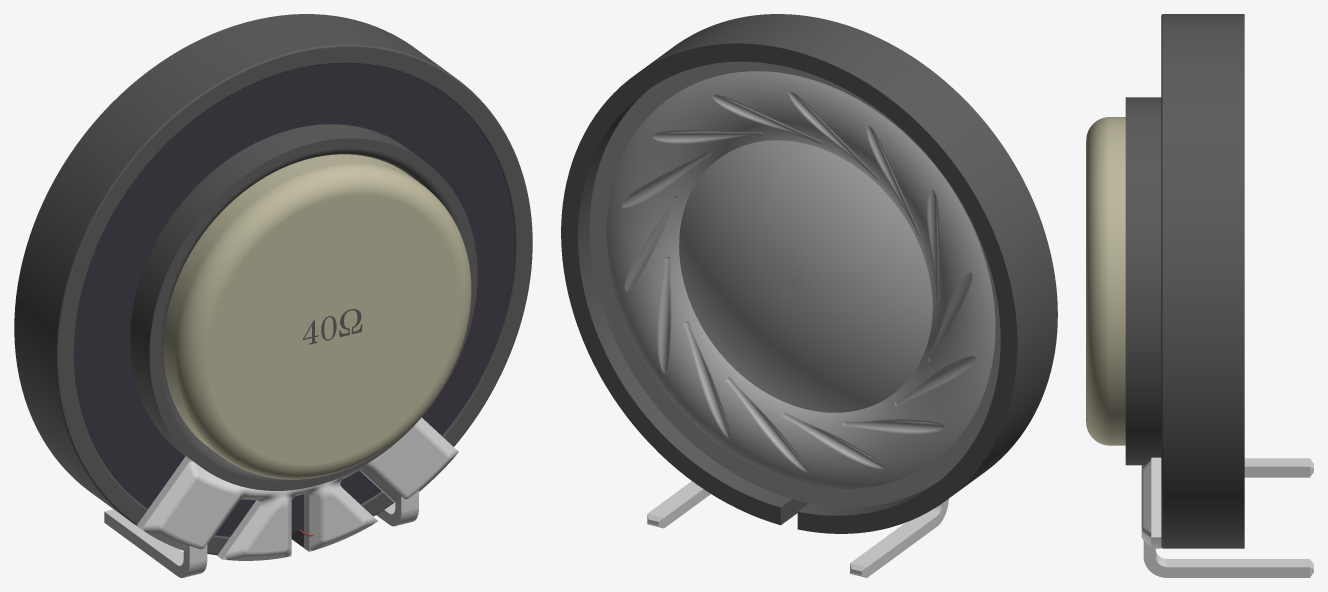
File: ZX Spectrum Speaker 40ohm.obj
3 views of the same model, side by side, from view 1: azimuth 30°, elevation 25°; view 2: azimuth 150°, elevation 25°; view 3: azimuth 270°, elevation 25° (orthographic). The views are drawn at different scales.
Parts seen in each view (by area): view 1: Body2, Body1, Foam, Body2:1, Body2:2, Body1:1, Body1:2; view 2: Body1:3, Body1, Body2:3, Body2:2, Body1:2; view 3: Body1, Body2, Body1:2, Body2:2, Body1:1, Body2:1.
Boxes of the visible parts, x1,y1,x2,y2 form: Body2: (163, 154, 471, 479); Body1: (14, 14, 532, 555); Foam: (74, 63, 514, 536); Body2:1: (143, 417, 457, 560); Body2:2: (104, 509, 207, 577); Body1:1: (136, 450, 458, 559); Body1:2: (376, 490, 418, 526); Body1:3: (606, 71, 995, 488); Body1: (561, 14, 1057, 533); Body2:3: (589, 61, 1000, 507); Body2:2: (850, 499, 948, 577); Body1:2: (647, 481, 710, 528); Body1: (1125, 14, 1244, 548); Body2: (1086, 117, 1125, 445); Body1:2: (1143, 540, 1313, 577); Body2:2: (1244, 458, 1313, 477); Body1:1: (1151, 457, 1161, 548); Body2:1: (1141, 459, 1151, 547).
Bounding box in the file's own units: 27 × 27 × 11.5.
